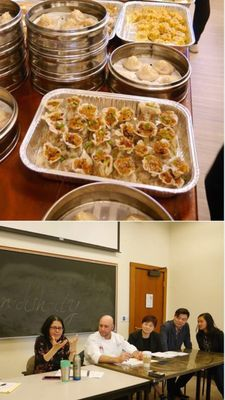pizza: (0, 0, 30, 92)
sushi: (21, 90, 199, 194), (106, 42, 191, 103), (41, 182, 173, 219), (117, 1, 195, 47)
